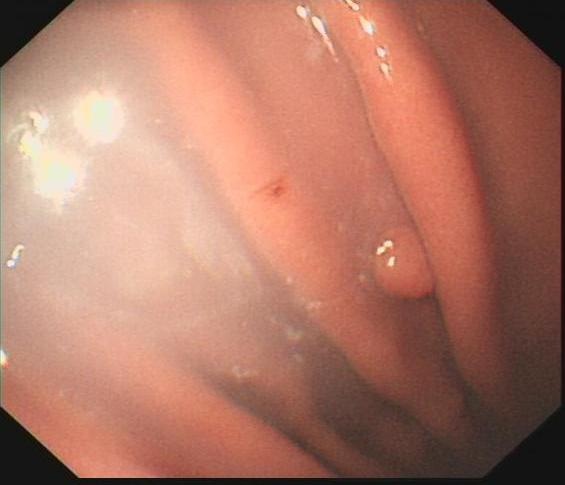Polyp: (372, 226, 432, 305)
